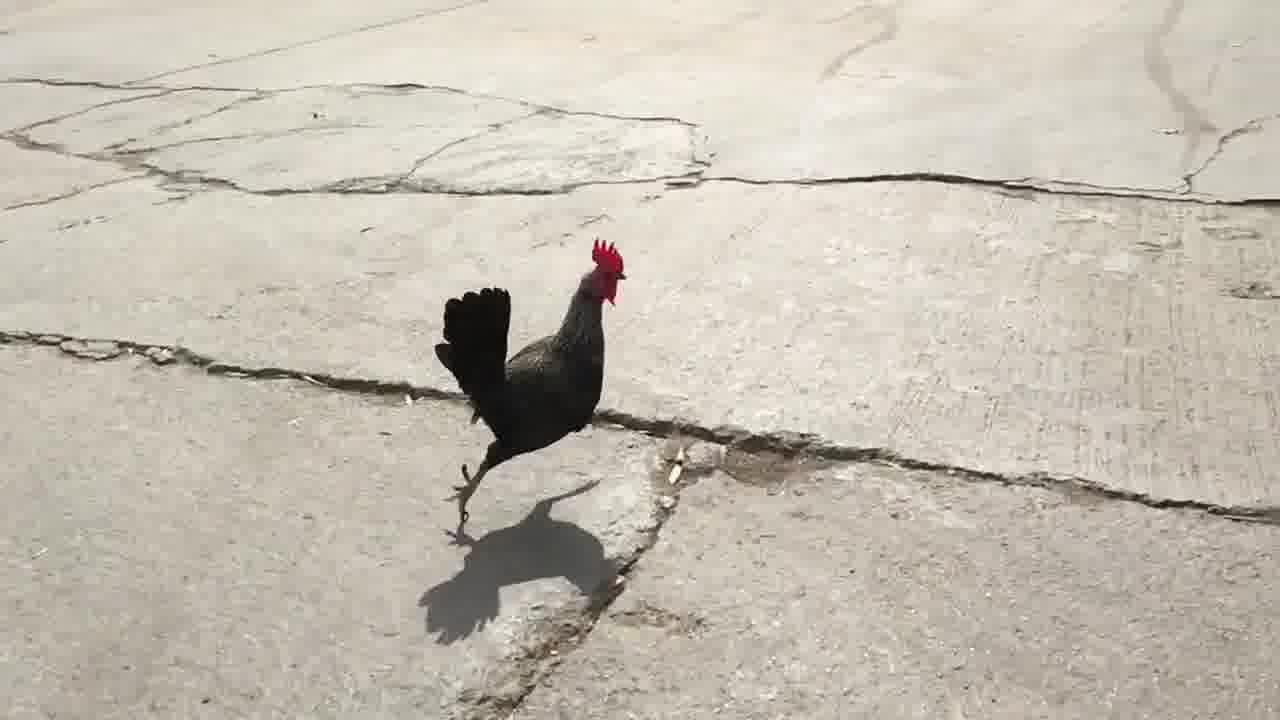Normal: (434, 230, 656, 532)
